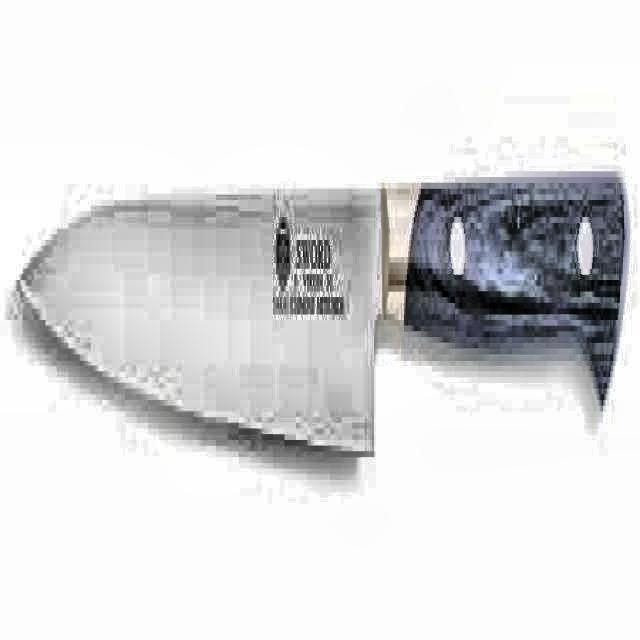knife: (11, 144, 636, 470)
